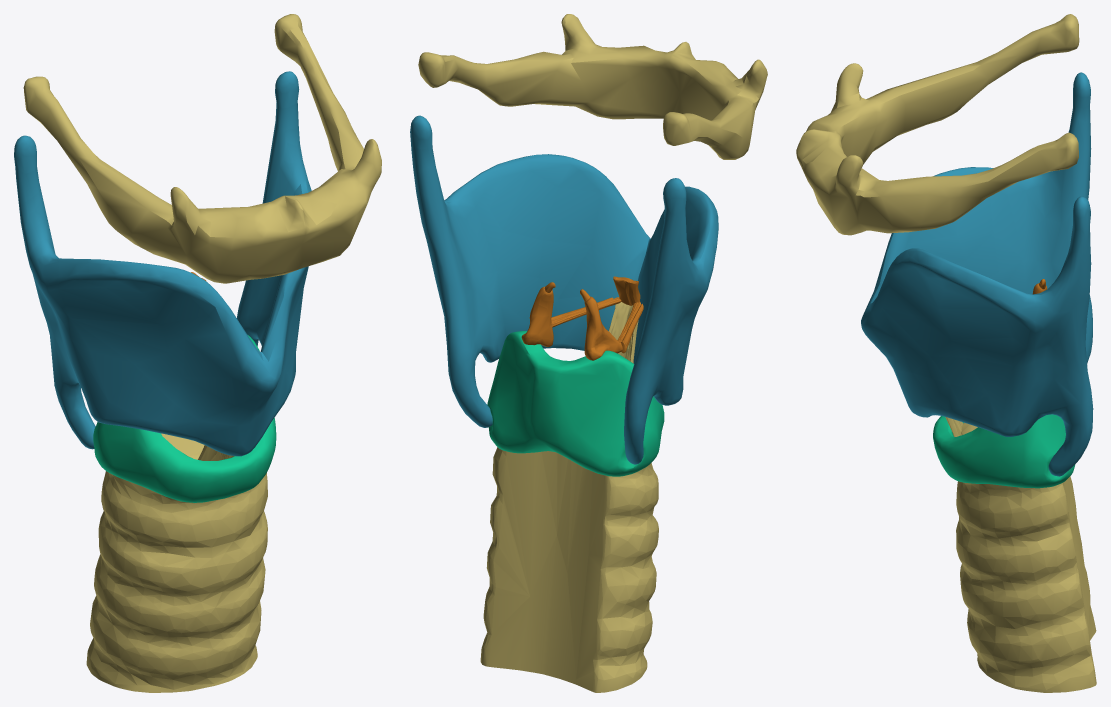
The model's file is fbx_frame_0019.obj.
3 views of the same model, side by side, from view 1: azimuth 30°, elevation 25°; view 2: azimuth 150°, elevation 25°; view 3: azimuth 270°, elevation 25° (orthographic). The views are drawn at different scales.
Parts seen in each view (by area): view 1: maya2sketchfab.010, maya2sketchfab.001, maya2sketchfab.011, maya2sketchfab.005; view 2: maya2sketchfab.010, maya2sketchfab.001, maya2sketchfab.011, maya2sketchfab.005, maya2sketchfab.004, maya2sketchfab.006, maya2sketchfab.007; view 3: maya2sketchfab.010, maya2sketchfab.001, maya2sketchfab.011, maya2sketchfab.005.
Boxes of the visible parts, x1,y1,x2,y2 form: maya2sketchfab.010: (14, 71, 311, 456); maya2sketchfab.001: (86, 433, 267, 692); maya2sketchfab.011: (23, 14, 381, 283); maya2sketchfab.005: (93, 335, 276, 502); maya2sketchfab.010: (410, 115, 718, 464); maya2sketchfab.001: (480, 302, 658, 692); maya2sketchfab.011: (418, 14, 767, 159); maya2sketchfab.005: (487, 331, 664, 476); maya2sketchfab.004: (580, 289, 622, 360); maya2sketchfab.006: (521, 282, 555, 346); maya2sketchfab.007: (613, 276, 640, 305); maya2sketchfab.010: (861, 72, 1093, 476); maya2sketchfab.001: (945, 417, 1096, 692); maya2sketchfab.011: (796, 14, 1079, 235); maya2sketchfab.005: (933, 414, 1075, 488).
Bounding box in the file's own units: 38.66 × 78.79 × 36.92.
